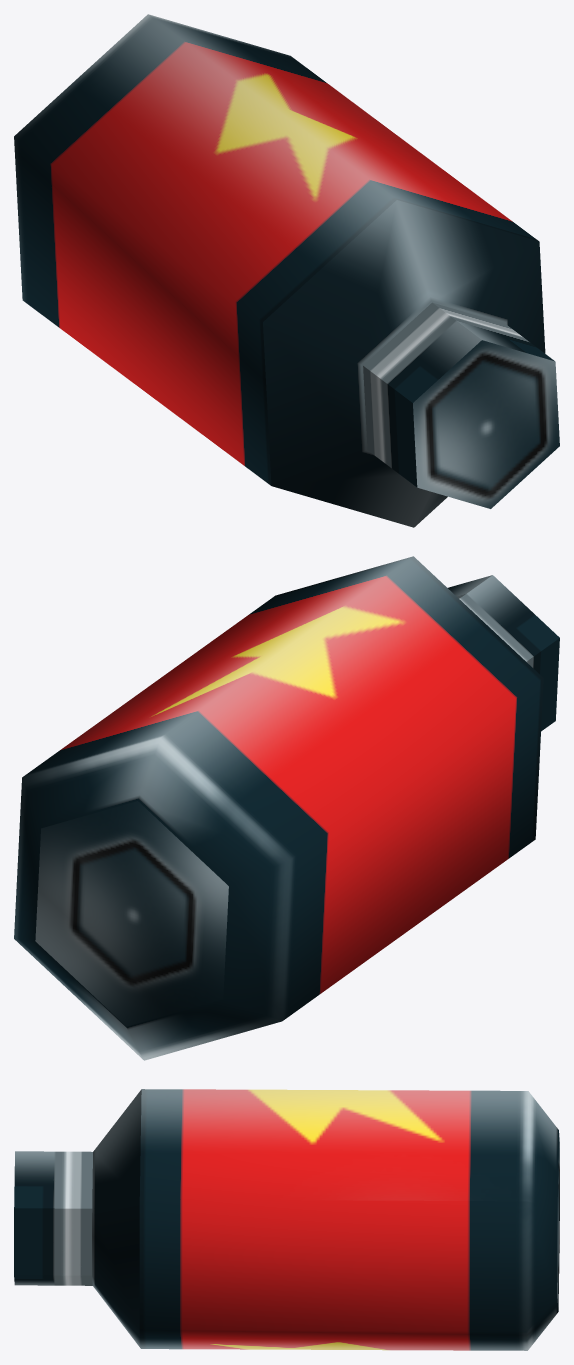
File: item_boost_skill2.FBX
The picture shows the model from 3 angles, top to bottom: view 1: azimuth 30°, elevation 25°; view 2: azimuth 150°, elevation 25°; view 3: azimuth 270°, elevation 25°; orthographic projection. The views are drawn at different scales.
Visible parts, largest first — view 1: boost_skill2_base; view 2: boost_skill2_base; view 3: boost_skill2_base.
Part boxes in pixels (box(x1,y1,x2,y2)): boost_skill2_base: box(14, 14, 559, 527); boost_skill2_base: box(14, 556, 559, 1060); boost_skill2_base: box(14, 1089, 559, 1350).
Bounding box in the file's own units: 0.0807 × 0.0892 × 0.1739.
